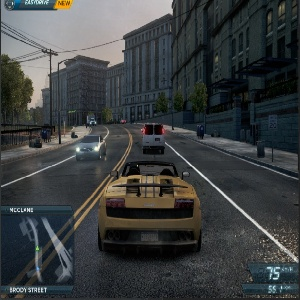building: (172, 2, 300, 125), (123, 12, 174, 120), (42, 57, 108, 127)
garbage: (255, 138, 268, 160), (25, 134, 44, 149)
mailbox: (41, 126, 54, 144), (196, 123, 206, 141)
road sign: (268, 114, 278, 164)
tree: (1, 54, 35, 131), (190, 78, 207, 126), (173, 84, 184, 113), (155, 92, 168, 114), (99, 109, 113, 123)
vehicle: (75, 134, 107, 160), (141, 122, 167, 154), (87, 118, 98, 128)
